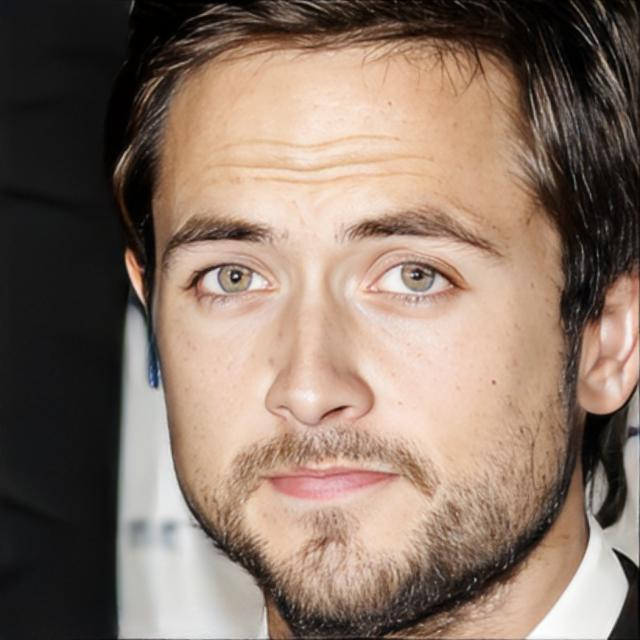neutral: (148, 7, 580, 640)
